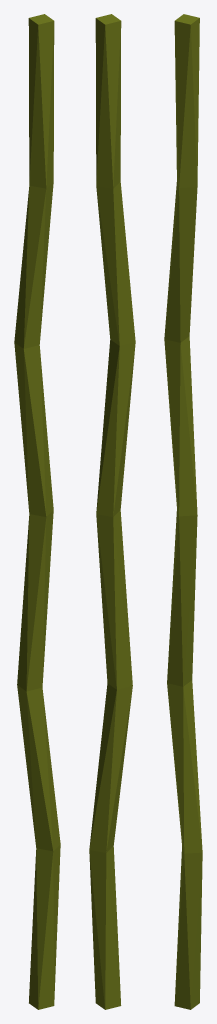
File: Vine_3.fbx
3 renders of one model, left to right at view 1: azimuth 30°, elevation 25°; view 2: azimuth 210°, elevation 25°; view 3: azimuth 330°, elevation 25°, orthographic.
Parts seen in each view (by area): view 1: Vine_3.001; view 2: Vine_3.001; view 3: Vine_3.001.
Part boxes in pixels (left/top/right/bottom): Vine_3.001: left=14, top=14, right=60, bottom=1009; Vine_3.001: left=89, top=14, right=135, bottom=1009; Vine_3.001: left=164, top=14, right=202, bottom=1009.
Bounding box in the file's own units: 0.1569 × 3.91 × 0.1021.
